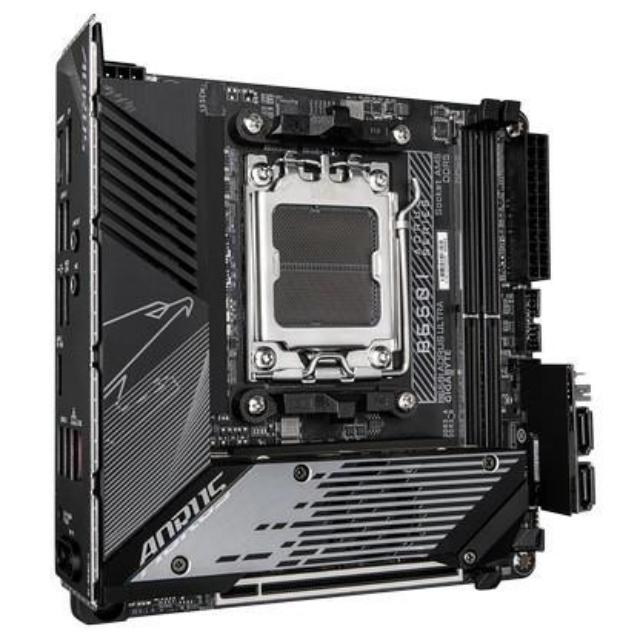Mainboard: (54, 16, 597, 614)
